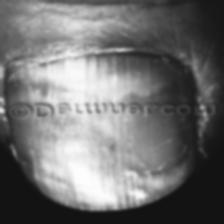Toxin: (23, 59, 195, 208)
